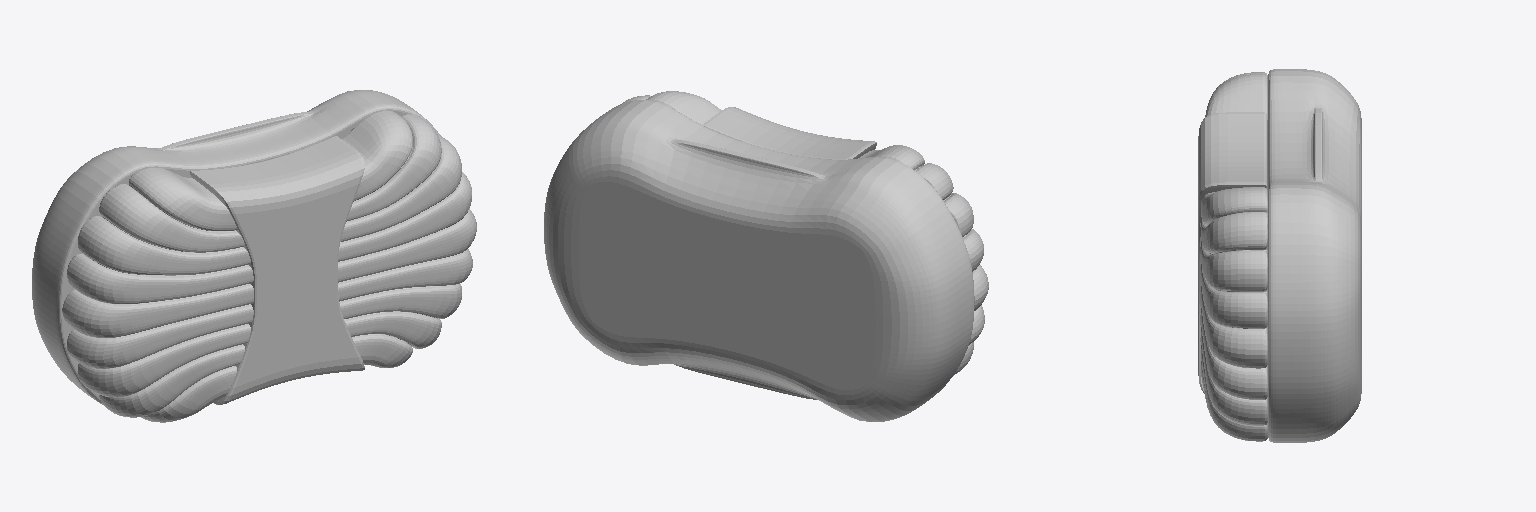
Rendered from 16866_soap_carrier_v1.obj.
3 renders of one model, left to right at view 1: azimuth 30°, elevation 25°; view 2: azimuth 150°, elevation 25°; view 3: azimuth 270°, elevation 25°, orthographic.
Parts seen in each view (by area): view 1: 16866_soap_carrier; view 2: 16866_soap_carrier; view 3: 16866_soap_carrier.
Boxes of the visible parts, x1,y1,x2,y2 form: 16866_soap_carrier: [32, 90, 476, 422]; 16866_soap_carrier: [544, 91, 988, 421]; 16866_soap_carrier: [1198, 69, 1361, 442].
Bounding box in the file's own units: 12.94 × 7.57 × 4.52.